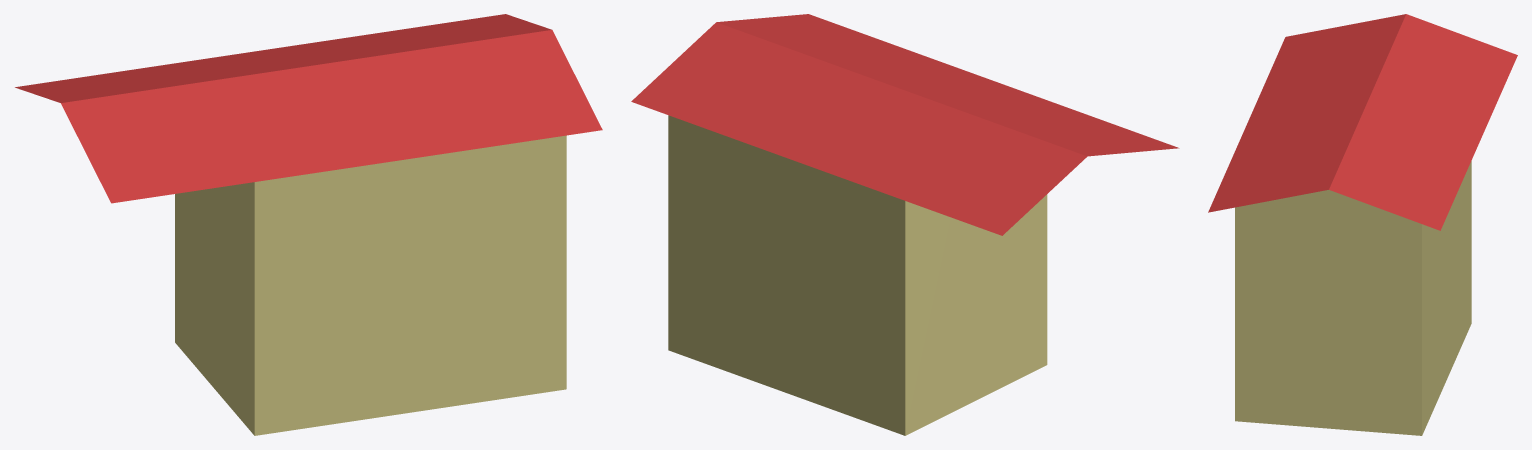
The picture shows the model from 3 angles, left to right: view 1: azimuth 30°, elevation 25°; view 2: azimuth 150°, elevation 25°; view 3: azimuth 270°, elevation 25°; orthographic projection. The views are drawn at different scales.
Bounding box in the file's own units: 9.98 × 6.74 × 5.96.
